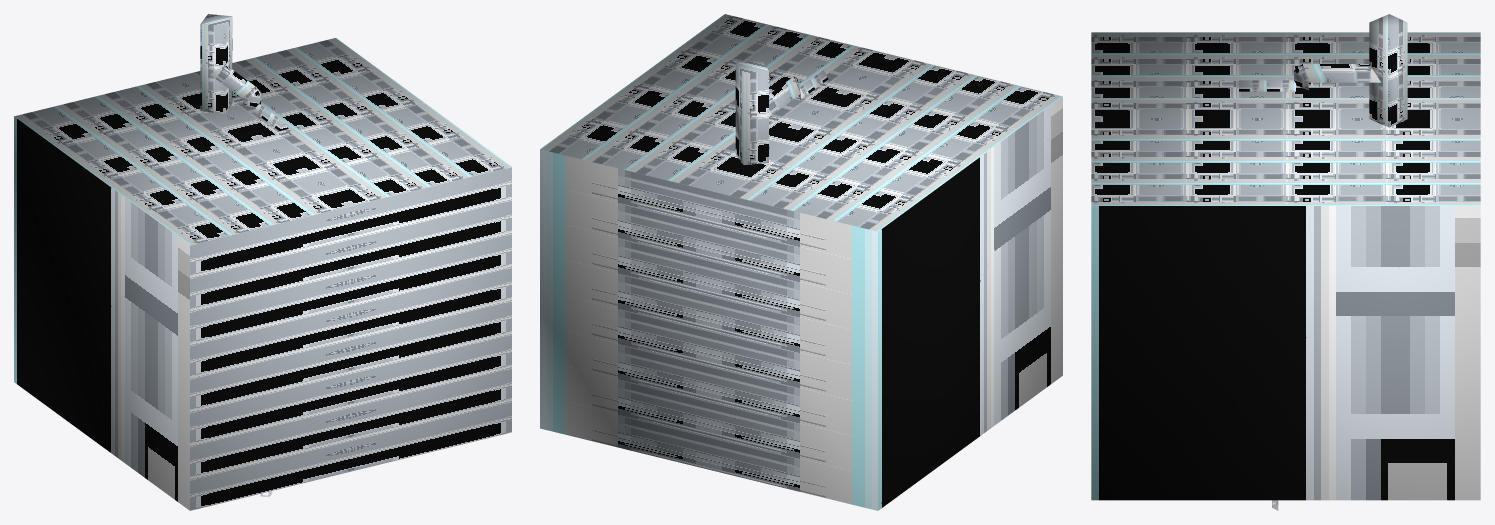
File: 3520IMOT01_01.gltf
3 views of the same model, side by side, from view 1: azimuth 30°, elevation 25°; view 2: azimuth 150°, elevation 25°; view 3: azimuth 270°, elevation 25° (orthographic). The views are drawn at different scales.
Parts seen in each view (by area): view 1: 3520IMOT01_01; view 2: 3520IMOT01_01; view 3: 3520IMOT01_01.
Part boxes in pixels (bbox=[...]): 3520IMOT01_01: bbox=[14, 14, 511, 510]; 3520IMOT01_01: bbox=[540, 14, 1062, 510]; 3520IMOT01_01: bbox=[1091, 14, 1480, 510].
Size of the model in its own units: 0.9502 by 1.24 by 0.9001.
Materials: 2 (2 with a texture image).
